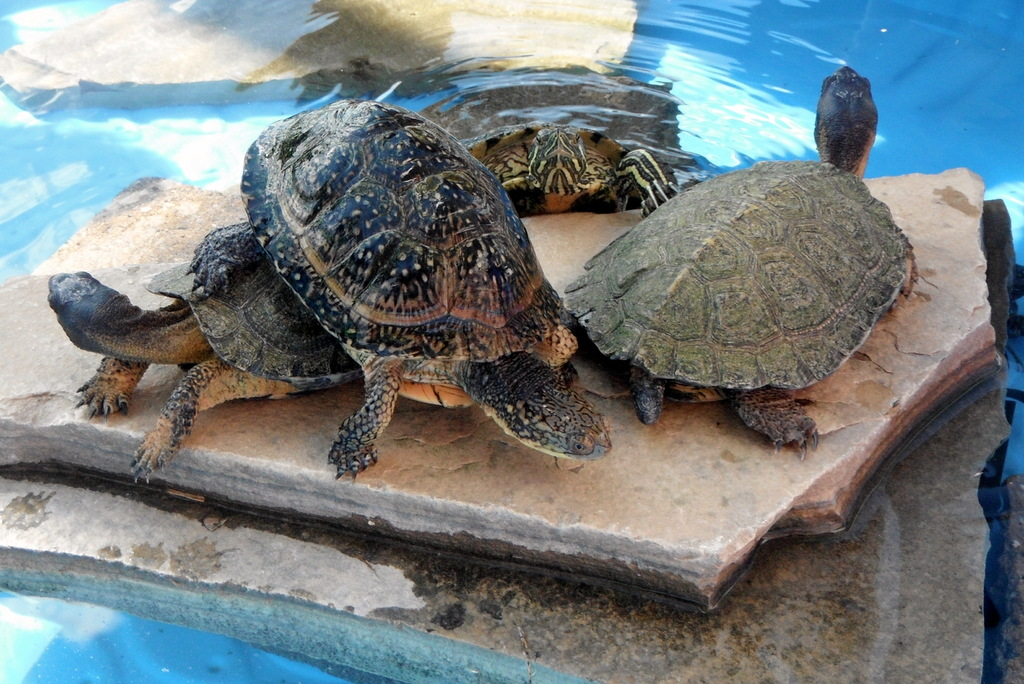Sea turtles: (561, 67, 919, 460), (239, 103, 609, 480), (45, 220, 363, 483), (418, 70, 703, 214)
